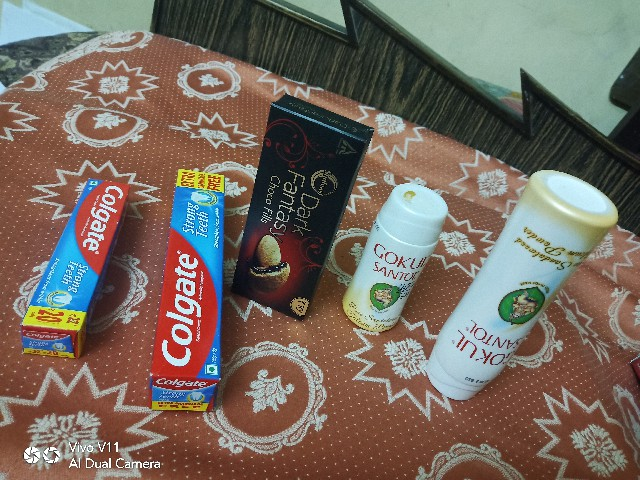colgatetoothpaste big: (147, 148, 227, 434)
colgatetoothpaste small: (22, 144, 128, 382)
darkfantasy small: (226, 70, 370, 347)
gokulsantol big: (426, 167, 619, 411)
gokulsantol small: (341, 172, 448, 348)
